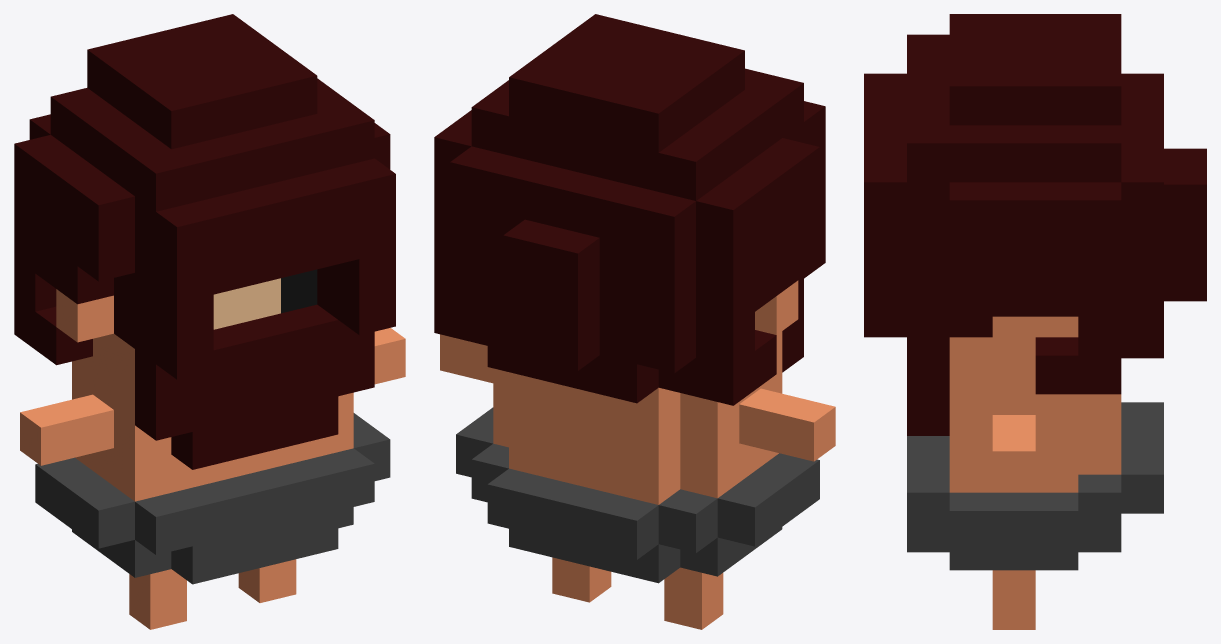
File: pplayer.fbx
3 renders of one model, left to right at view 1: azimuth 30°, elevation 25°; view 2: azimuth 150°, elevation 25°; view 3: azimuth 270°, elevation 25°, orthographic. The views are drawn at different scales.
Visible parts, largest first — view 1: pplayer; view 2: pplayer; view 3: pplayer.
Boxes of the visible parts, x1,y1,x2,y2 form: pplayer: [14, 14, 405, 629]; pplayer: [434, 14, 835, 629]; pplayer: [864, 14, 1206, 629].
Size of the model in its own units: 100 by 140 by 80.
1 material, 1 textured.
